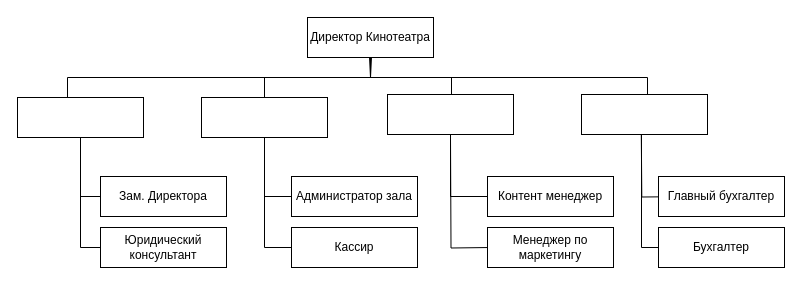
Image size: 802x285. Some labels were removed from this diagram. The centre of each missing label's shape, as x and y in pixels:
"Бухгалтерcий отдел" belongs at (x=644, y=114).
"Операционный отдел" belongs at (x=264, y=117).
"Отдел контента и продвижения" belongs at (x=450, y=114).
"Отдел управления" belongs at (x=80, y=117).
